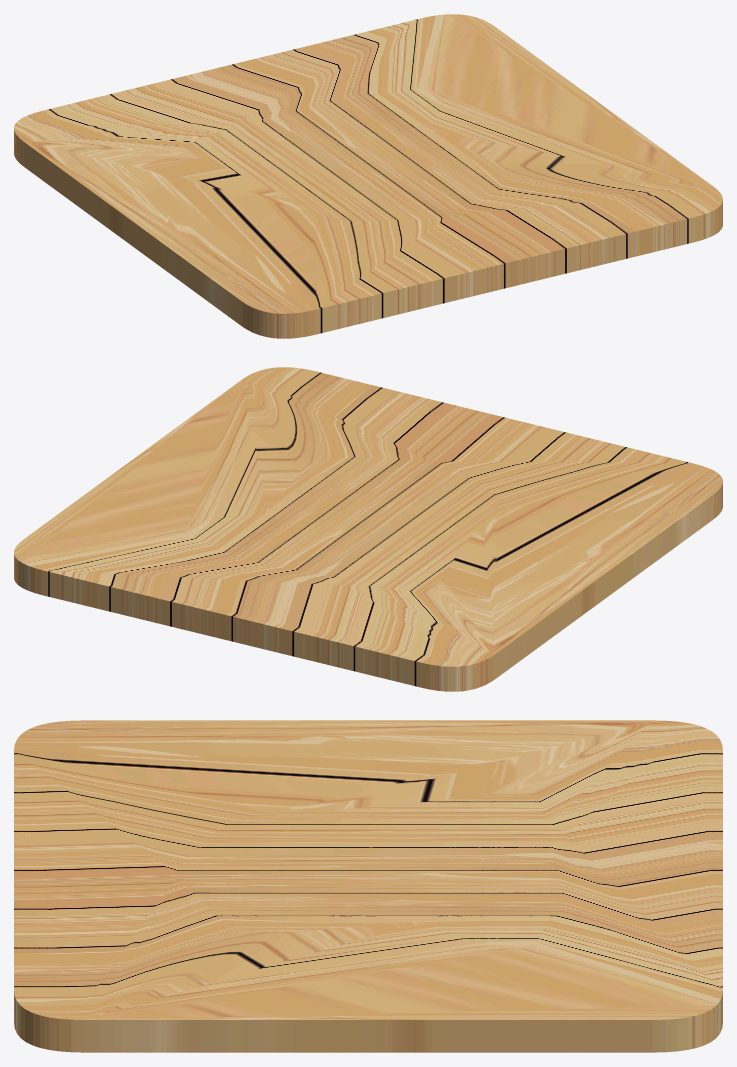
Rendered from Dog (3).fbx.
3 views of the same model, one above another, from view 1: azimuth 30°, elevation 25°; view 2: azimuth 150°, elevation 25°; view 3: azimuth 270°, elevation 25° (orthographic). The views are drawn at different scales.
Parts seen in each view (by area): view 1: dog_outer, dog_cutout; view 2: dog_outer, dog_cutout; view 3: dog_outer, dog_cutout.
Part boxes in pixels (bbox=[...]): dog_outer: bbox=[14, 14, 722, 338]; dog_cutout: bbox=[184, 88, 507, 221]; dog_outer: bbox=[14, 367, 722, 691]; dog_cutout: bbox=[184, 456, 499, 592]; dog_outer: bbox=[14, 720, 722, 1052]; dog_cutout: bbox=[177, 791, 565, 949].
Size of the model in its own units: 1248 by 63.18 by 1248.
Materials: 1 (1 with a texture image).
